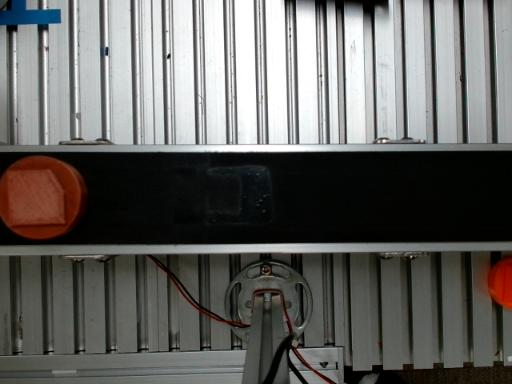Brown_Waper: (0, 156, 87, 239)
Not_Square: (7, 168, 67, 226)
